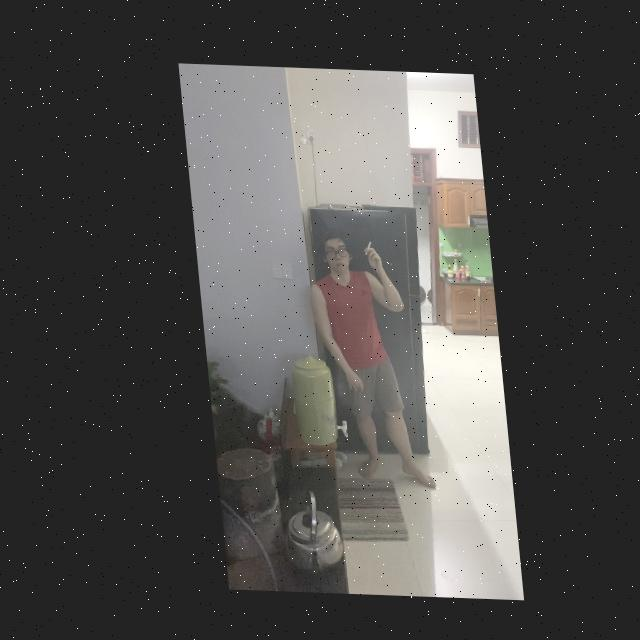cigarette: (359, 239, 367, 253)
